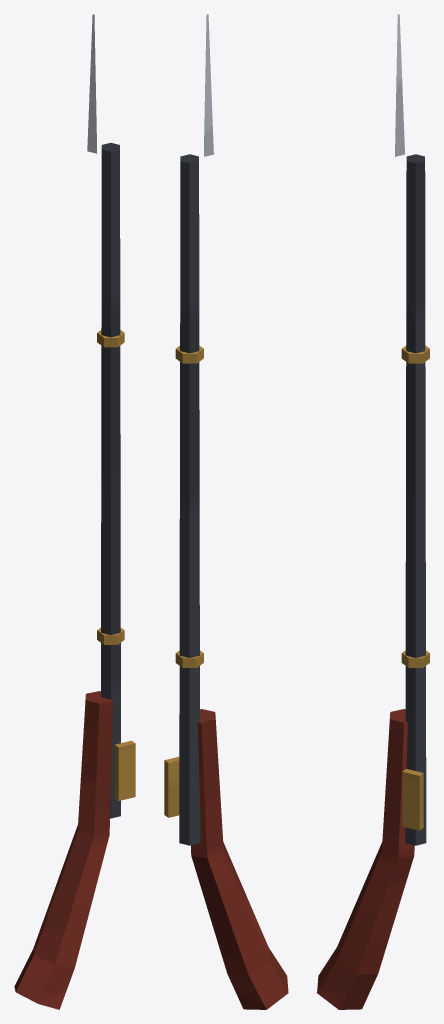
Rendered from SM_Prop_ArmadaMusket_HQ.glb.
The picture shows the model from 3 angles, left to right: view 1: azimuth 30°, elevation 25°; view 2: azimuth 210°, elevation 25°; view 3: azimuth 330°, elevation 25°; orthographic projection. The views are drawn at different scales.
Visible parts, largest first — view 1: SM_Prop_ArmadaMusket_HQ; view 2: SM_Prop_ArmadaMusket_HQ; view 3: SM_Prop_ArmadaMusket_HQ.
Boxes of the visible parts, bbox=[...] form: SM_Prop_ArmadaMusket_HQ: bbox=[14, 14, 135, 1009]; SM_Prop_ArmadaMusket_HQ: bbox=[164, 14, 288, 1009]; SM_Prop_ArmadaMusket_HQ: bbox=[317, 14, 429, 1009].
Size of the model in its own units: 0.1926 by 1.65 by 0.0727.
1 material, 1 textured.
